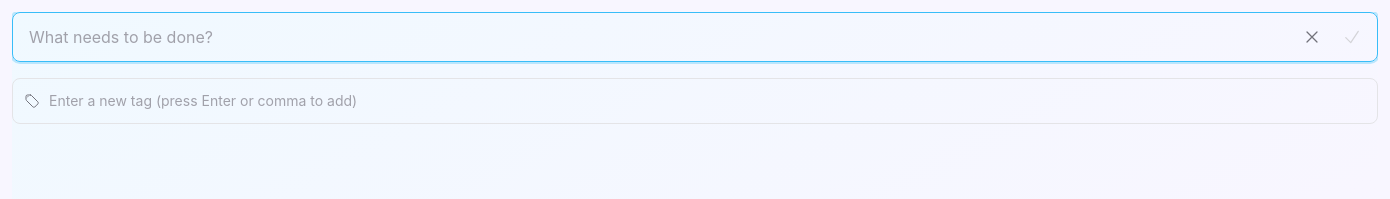
GlobalTaskForm Component › shows tag suggestions when typing
In the field with test id "tag-input": (695, 101) [12, 78, 1378, 124], type "existing"
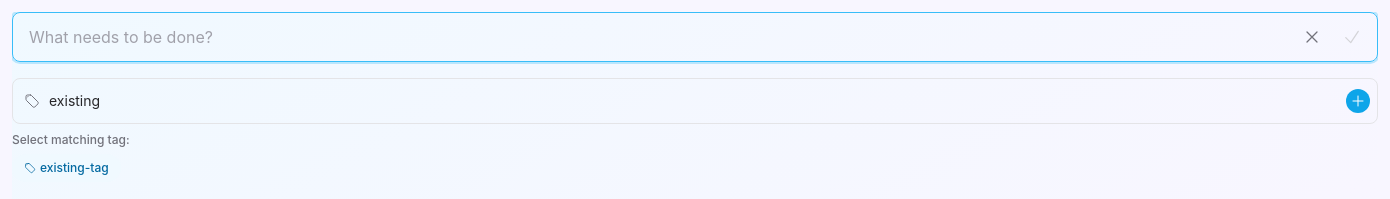
Expected: the element with test id "tag-suggestions" is shown, [12, 132, 130, 182]
Expected: the button with test id "tag-suggestion-existing-tag" is shown, [12, 154, 121, 182]
